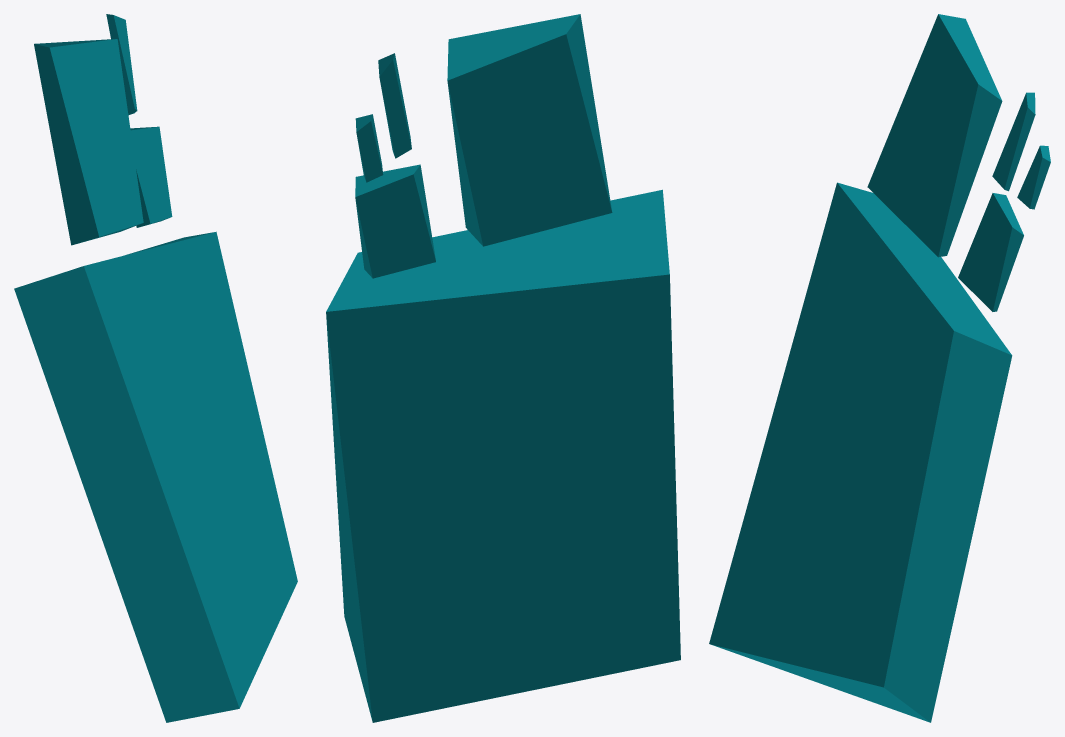
Rendered from ReloadSharderrr.fbx.
The picture shows the model from 3 angles, left to right: view 1: azimuth 30°, elevation 25°; view 2: azimuth 150°, elevation 25°; view 3: azimuth 270°, elevation 25°; orthographic projection. The views are drawn at different scales.
Visible parts, largest first — view 1: Shard; view 2: Shard; view 3: Shard.
Boxes of the visible parts, x1,y1,x2,y2 form: Shard: (14,14,297,722); Shard: (326,14,680,722); Shard: (709,14,1050,722).
Bounding box in the file's own units: 165 × 333 × 153.
